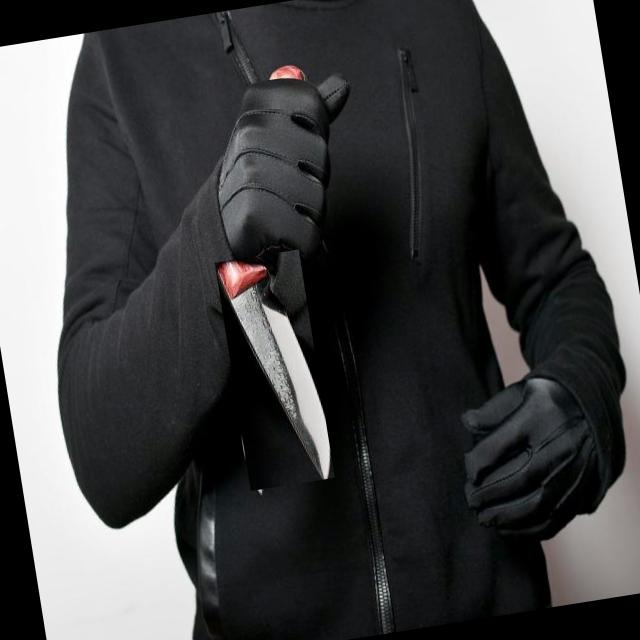Knife: (216, 260, 331, 479)
